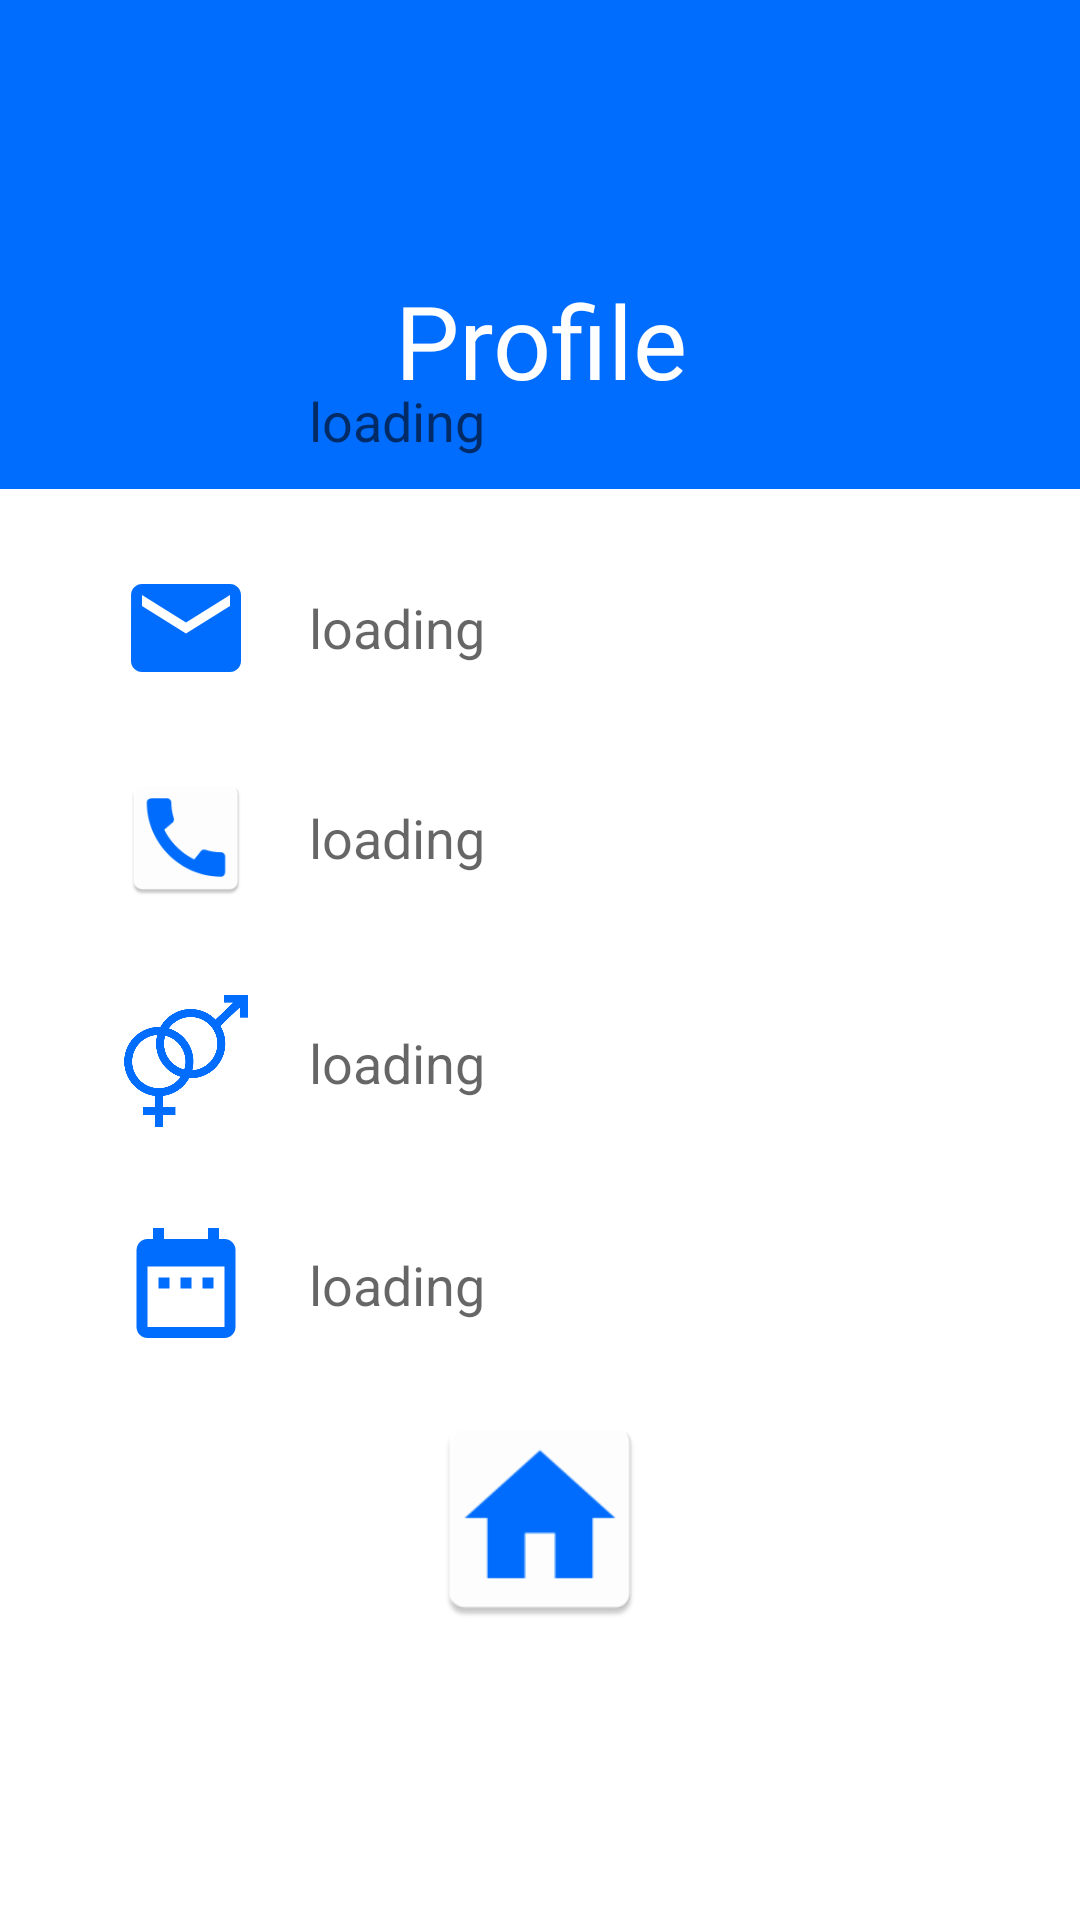

Icons on this 1080px x 1920px Android screen, each with the point to tap as (x=x, y=y):
date range: (x=186, y=1283)
email: (x=186, y=628)
gender: (x=186, y=1061)
